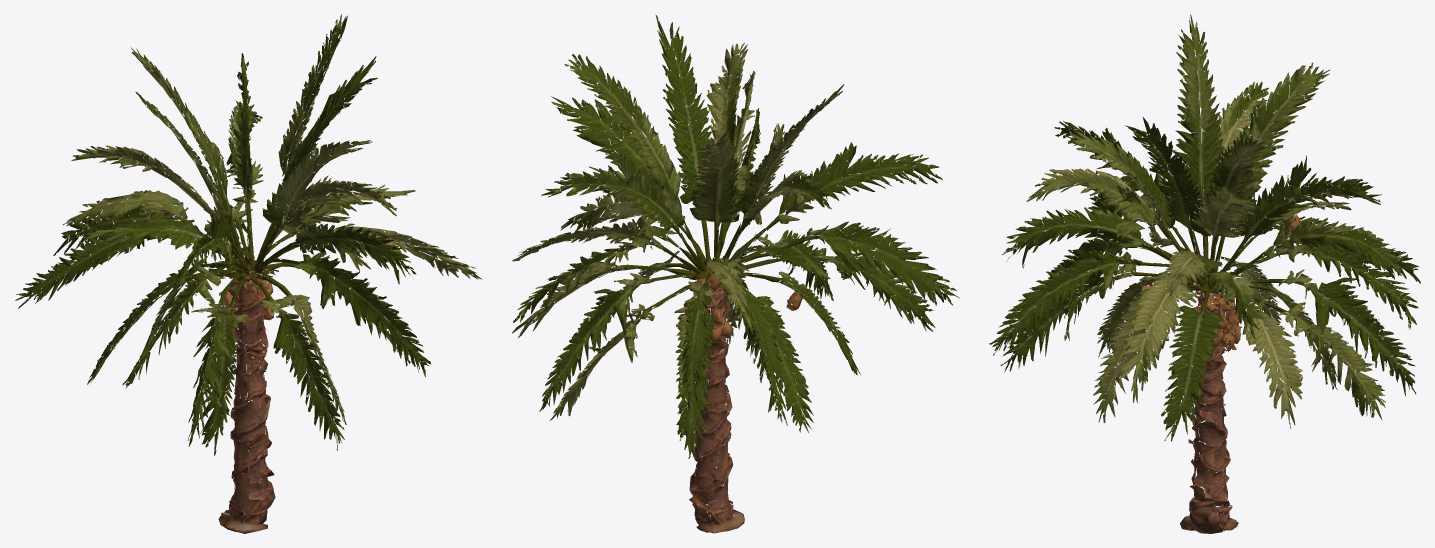
Rendered from mature_date_palm.glb.
3 renders of one model, left to right at view 1: azimuth 30°, elevation 25°; view 2: azimuth 150°, elevation 25°; view 3: azimuth 270°, elevation 25°, orthographic. The views are drawn at different scales.
Parts seen in each view (by area): view 1: tripo_node_843ccd23-092b-4a4c-bf2e-32cb50ef46f5; view 2: tripo_node_843ccd23-092b-4a4c-bf2e-32cb50ef46f5; view 3: tripo_node_843ccd23-092b-4a4c-bf2e-32cb50ef46f5.
Boxes of the visible parts, x1,y1,x2,y2 form: tripo_node_843ccd23-092b-4a4c-bf2e-32cb50ef46f5: (15,14,482,533); tripo_node_843ccd23-092b-4a4c-bf2e-32cb50ef46f5: (512,14,959,533); tripo_node_843ccd23-092b-4a4c-bf2e-32cb50ef46f5: (989,14,1420,533).
Size of the model in its own units: 6.87 by 8.01 by 6.86.
Materials: 1 (1 with a texture image).
